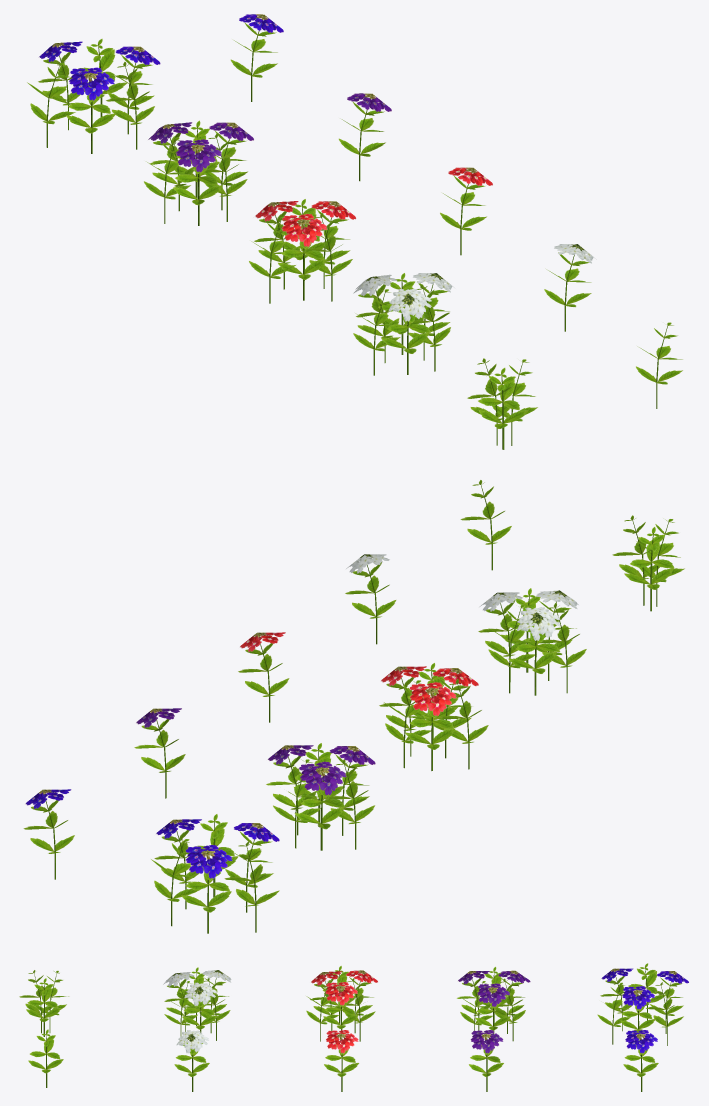
File: verbena_flower_low_poly.glb
3 renders of one model, top to bottom at view 1: azimuth 30°, elevation 25°; view 2: azimuth 150°, elevation 25°; view 3: azimuth 270°, elevation 25°, orthographic. The views are drawn at different scales.
Visible parts, largest first — view 1: Object_2, Object_5, Object_6, Object_4, Object_3, Object_7; view 2: Object_2, Object_5, Object_3, Object_6, Object_4, Object_7; view 3: Object_2, Object_5, Object_4, Object_3, Object_6, Object_7.
Boxes of the visible parts, <box> form: Object_2: <box>27,22,682,428</box>; Object_5: <box>46,30,668,449</box>; Object_6: <box>148,93,391,172</box>; Object_4: <box>255,167,492,246</box>; Object_3: <box>39,14,283,100</box>; Object_7: <box>353,244,596,321</box>; Object_2: <box>23,480,684,912</box>; Object_5: <box>45,483,669,933</box>; Object_3: <box>25,789,279,878</box>; Object_6: <box>136,708,375,795</box>; Object_4: <box>240,632,478,716</box>; Object_7: <box>346,554,578,640</box>; Object_2: <box>19,963,683,1076</box>; Object_5: <box>34,967,671,1091</box>; Object_4: <box>311,970,377,1053</box>; Object_3: <box>601,968,688,1053</box>; Object_6: <box>458,970,530,1053</box>; Object_7: <box>163,970,231,1053</box>.
Bounding box in the file's own units: 2.89 × 0.9035 × 9.12.
6 materials, 5 textured.
